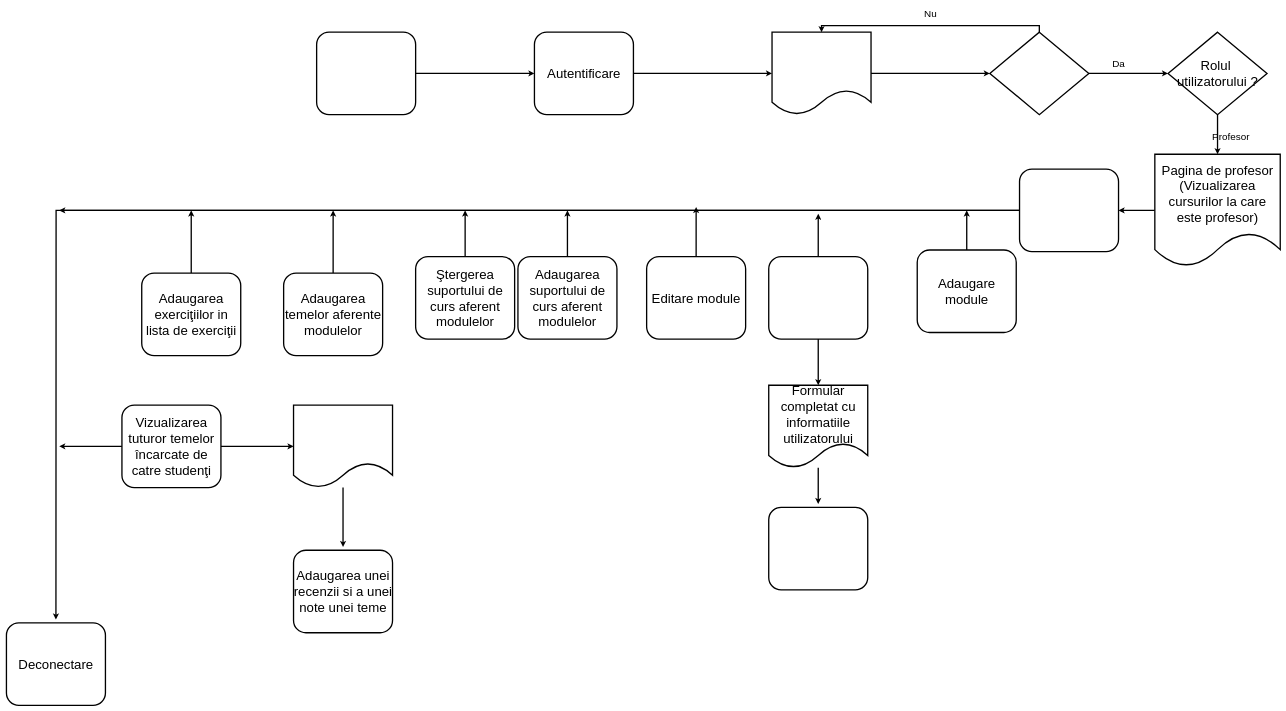
Some shapes in this 1286 by 711 pixel diagram are drawn without their labels. Each missing label, with the centre of its shape:
Deschiderea unui curs: the point at 1069,210
Editarea profilului (nume, prenume şi email): the point at 818,548
Există utilizator ?: the point at 1039,73
Formular de autentificare: the point at 821,73
Start: the point at 366,73
Tabel cu toate temele: the point at 343,446
Vizualizare profil: the point at 818,298
